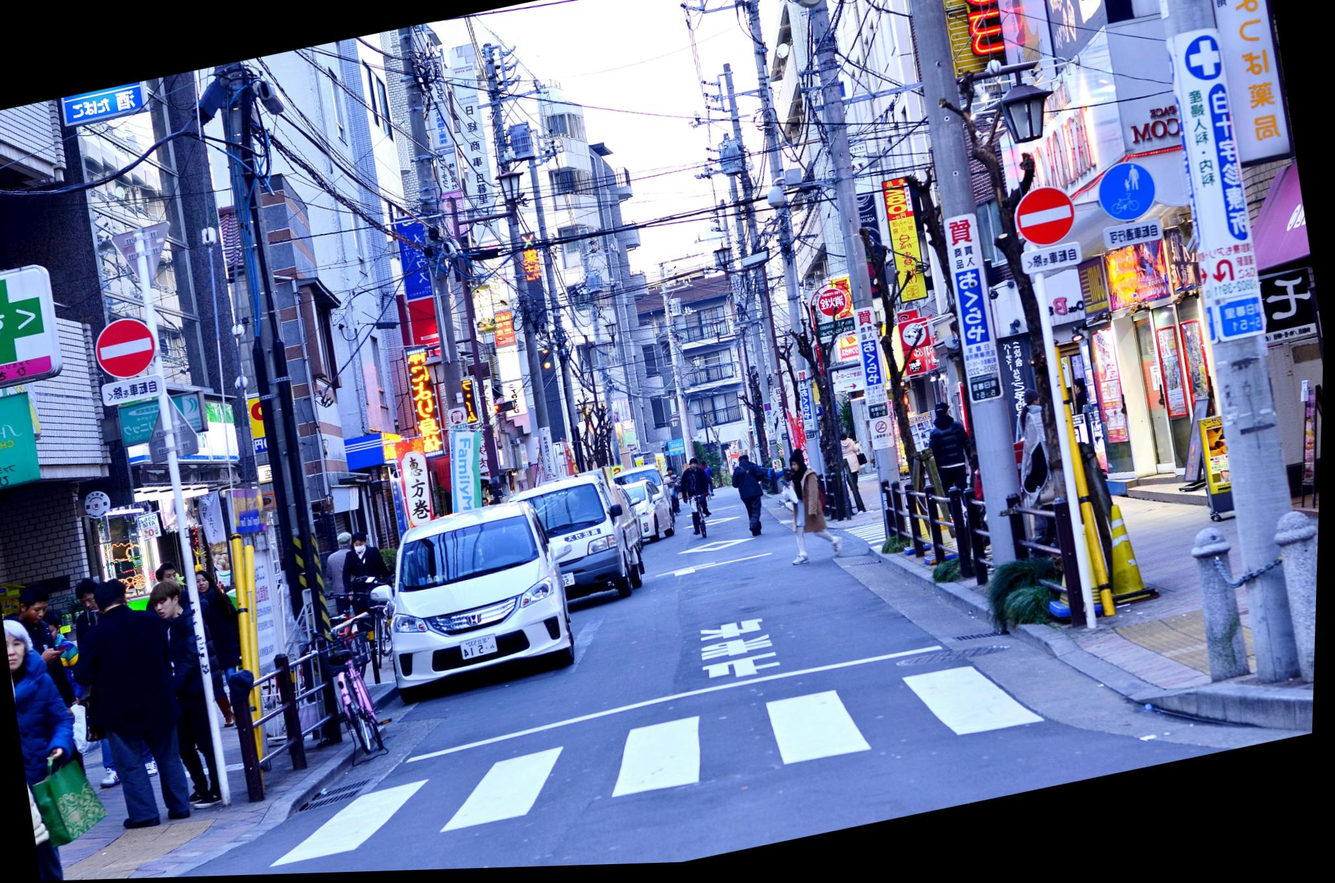barrier: (1010, 169, 1086, 256), (89, 308, 160, 381)
